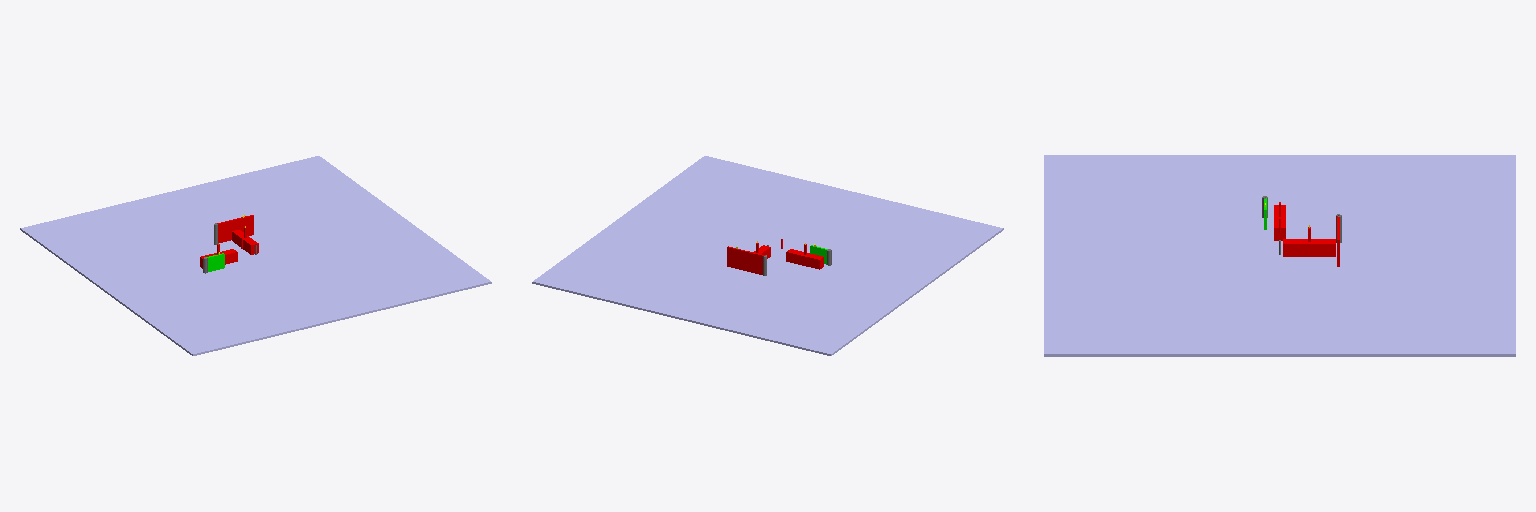
The robot description file, URDF, robot "lockbox2017":
<?xml version="1.0"?>
<!-- created with Phobos 1.0.1 "Capricious Choutengan" -->
  <robot name="lockbox2017">

    <link name="base_link">
      <inertial>
        <origin xyz="0 0 0" rpy="0 0 0"/>
        <mass value="0.001"/>
        <inertia ixx="0.001" ixy="0" ixz="0" iyy="0.001" iyz="0" izz="0.001"/>
      </inertial>
      <visual name="visual_cube_base">
        <origin xyz="0 0 0" rpy="0 0 0"/>
        <geometry>
          <box size="32.0 32.0 0.2"/>
        </geometry>
        <material name="lavender"/>
      </visual>
      <collision name="collision_cube_base">
        <origin xyz="0 0 0" rpy="0 0 0"/>
        <geometry>
          <box size="32.0 32.0 0.2"/>
        </geometry>
      </collision>
    </link>

    <link name="link_1">
      <inertial>
        <origin xyz="0 0 0" rpy="0 0 0"/>
        <mass value="0.001"/>
        <inertia ixx="0.001" ixy="0" ixz="0" iyy="0.001" iyz="0" izz="0.001"/>
      </inertial>
      <visual name="visual_cube_1">
        <origin xyz="0 0 0" rpy="0 0 0"/>
        <geometry>
          <box size="0.8 1.0 3.6"/>
        </geometry>
        <material name="red"/>
      </visual>
      <collision name="collision_cube_1">
        <origin xyz="0 0 0" rpy="0 0 0"/>
        <geometry>
          <box size="0.8 1.0 3.6"/>
        </geometry>
      </collision>
    </link>

    <link name="link_2">
      <inertial>
        <origin xyz="0 0 0" rpy="0 0 0"/>
        <mass value="0.001"/>
        <inertia ixx="0.001" ixy="0" ixz="0" iyy="0.001" iyz="0" izz="0.001"/>
      </inertial>
      <visual name="visual_mesh_2">
        <origin xyz="0 0 0" rpy="0 0 0"/>
        <geometry>
          <mesh filename="file://[local-path]/ba/puzzle-generator/puzzles/lockbox2017/meshes/stl/slot_disc.stl" scale="1.0 1.0 1.0"/>
        </geometry>
        <material name="red"/>
      </visual>
      <collision concave="yes" name="collision_mesh_2">
        <origin xyz="-0.03587 0 0" rpy="0 0 0"/>
        <geometry>
          <mesh filename="file://[local-path]/ba/puzzle-generator/puzzles/lockbox2017/meshes/stl/slot_disc.001.stl" scale="1.0 1.0 1.0"/>
        </geometry>
      </collision>
    </link>

    <link name="link_3">
      <inertial>
        <origin xyz="0 0 0" rpy="0 0 0"/>
        <mass value="0.001"/>
        <inertia ixx="0.001" ixy="0" ixz="0" iyy="0.001" iyz="0" izz="0.001"/>
      </inertial>
      <visual name="visual_cube_3">
        <origin xyz="0 0 0" rpy="0 0 0"/>
        <geometry>
          <box size="0.8 1.0 3.6"/>
        </geometry>
        <material name="red"/>
      </visual>
      <collision name="collision_cube_3">
        <origin xyz="0 0 0" rpy="0 0 0"/>
        <geometry>
          <box size="0.8 1.0 3.6"/>
        </geometry>
      </collision>
    </link>

    <link name="link_door_0">
      <inertial>
        <origin xyz="0 0 0" rpy="0 0 0"/>
        <mass value="0.001"/>
        <inertia ixx="0.001" ixy="0" ixz="0" iyy="0.001" iyz="0" izz="0.001"/>
      </inertial>
      <visual name="visual_cylinder_door_0">
        <origin xyz="0 0 0" rpy="0 0 0"/>
        <geometry>
          <cylinder radius="0.2" length="2.0"/>
        </geometry>
        <material name="gray"/>
      </visual>
      <collision name="collision_cylinder_door_0">
        <origin xyz="0 0 0" rpy="0 0 0"/>
        <geometry>
          <cylinder radius="0.2" length="2.0"/>
        </geometry>
      </collision>
    </link>

    <link name="link_door_4">
      <inertial>
        <origin xyz="0 0 0" rpy="0 0 0"/>
        <mass value="0.001"/>
        <inertia ixx="0.001" ixy="0" ixz="0" iyy="0.001" iyz="0" izz="0.001"/>
      </inertial>
      <visual name="visual_cylinder_door_4">
        <origin xyz="0 0 0" rpy="0 0 0"/>
        <geometry>
          <cylinder radius="0.2" length="2.0"/>
        </geometry>
        <material name="gray"/>
      </visual>
      <collision name="collision_cylinder_door_4">
        <origin xyz="0 0 0" rpy="0 0 0"/>
        <geometry>
          <cylinder radius="0.2" length="2.0"/>
        </geometry>
      </collision>
    </link>

    <link name="link_door_handle_0">
      <inertial>
        <origin xyz="0 0 0" rpy="0 0 0"/>
        <mass value="0.001"/>
        <inertia ixx="0.001" ixy="0" ixz="0" iyy="0.001" iyz="0" izz="0.001"/>
      </inertial>
      <visual name="visual_cube_door_handle_0">
        <origin xyz="0 0 0" rpy="0 0 0"/>
        <geometry>
          <box size="0.2 0.05 0.2"/>
        </geometry>
        <material name="yellow"/>
      </visual>
      <collision name="collision_cube_door_handle_0">
        <origin xyz="0 0 0" rpy="0 0 0"/>
        <geometry>
          <box size="0.2 0.05 0.2"/>
        </geometry>
      </collision>
    </link>

    <link name="link_door_handle_4">
      <inertial>
        <origin xyz="0 0 0" rpy="0 0 0"/>
        <mass value="0.001"/>
        <inertia ixx="0.001" ixy="0" ixz="0" iyy="0.001" iyz="0" izz="0.001"/>
      </inertial>
      <visual name="visual_cube_door_handle_4">
        <origin xyz="0 0 0" rpy="0 0 0"/>
        <geometry>
          <box size="0.2 0.05 0.2"/>
        </geometry>
        <material name="yellow"/>
      </visual>
      <collision name="collision_cube_door_handle_4">
        <origin xyz="0 0 0" rpy="0 0 0"/>
        <geometry>
          <box size="0.2 0.05 0.2"/>
        </geometry>
      </collision>
    </link>

    <link name="link_door_panel_0">
      <inertial>
        <origin xyz="0 0 0" rpy="0 0 0"/>
        <mass value="0.001"/>
        <inertia ixx="0.001" ixy="0" ixz="0" iyy="0.001" iyz="0" izz="0.001"/>
      </inertial>
      <visual name="visual_cube_door_panel_0">
        <origin xyz="0 0 0" rpy="0 0 0"/>
        <geometry>
          <box size="2.0 0.2 2.0"/>
        </geometry>
        <material name="green"/>
      </visual>
      <collision name="collision_cube_door_panel_0">
        <origin xyz="0 0 0" rpy="0 0 0"/>
        <geometry>
          <box size="2.0 0.2 2.0"/>
        </geometry>
      </collision>
    </link>

    <link name="link_door_panel_4">
      <inertial>
        <origin xyz="0 0 0" rpy="0 0 0"/>
        <mass value="0.001"/>
        <inertia ixx="0.001" ixy="0" ixz="0" iyy="0.001" iyz="0" izz="0.001"/>
      </inertial>
      <visual name="visual_cube_door_panel_4">
        <origin xyz="0 0 0" rpy="0 0 0"/>
        <geometry>
          <box size="4.0 0.2 2.0"/>
        </geometry>
        <material name="red"/>
      </visual>
      <collision name="collision_cube_door_panel_4">
        <origin xyz="0 0 0" rpy="0 0 0"/>
        <geometry>
          <box size="4.0 0.2 2.0"/>
        </geometry>
      </collision>
    </link>

    <link name="link_handle_knob_1">
      <inertial>
        <origin xyz="0 0 0" rpy="0 0 0"/>
        <mass value="0.001"/>
        <inertia ixx="0.001" ixy="0" ixz="0" iyy="0.001" iyz="0" izz="0.001"/>
      </inertial>
      <visual name="visual_cube_handle_knob_1">
        <origin xyz="0 0 0" rpy="0 0 0"/>
        <geometry>
          <box size="0.05 0.05 0.2"/>
        </geometry>
        <material name="yellow"/>
      </visual>
      <collision name="collision_cube_handle_knob_1">
        <origin xyz="0 0 0" rpy="0 0 0"/>
        <geometry>
          <box size="0.05 0.05 0.2"/>
        </geometry>
      </collision>
    </link>

    <link name="link_handle_knob_2">
      <inertial>
        <origin xyz="0 0 0" rpy="0 0 0"/>
        <mass value="0.001"/>
        <inertia ixx="0.001" ixy="0" ixz="0" iyy="0.001" iyz="0" izz="0.001"/>
      </inertial>
      <visual name="visual_cube_handle_knob_2">
        <origin xyz="0 0 0" rpy="0 0 0"/>
        <geometry>
          <box size="0.05 0.05 0.2"/>
        </geometry>
        <material name="yellow"/>
      </visual>
      <collision name="collision_cube_handle_knob_2">
        <origin xyz="0 0 0" rpy="0 0 0"/>
        <geometry>
          <box size="0.05 0.05 0.2"/>
        </geometry>
      </collision>
    </link>

    <link name="link_handle_knob_3">
      <inertial>
        <origin xyz="0 0 0" rpy="0 0 0"/>
        <mass value="0.001"/>
        <inertia ixx="0.001" ixy="0" ixz="0" iyy="0.001" iyz="0" izz="0.001"/>
      </inertial>
      <visual name="visual_cube_handle_knob_3">
        <origin xyz="0 0 0" rpy="0 0 0"/>
        <geometry>
          <box size="0.05 0.05 0.2"/>
        </geometry>
        <material name="yellow"/>
      </visual>
      <collision name="collision_cube_handle_knob_3">
        <origin xyz="0 0 0" rpy="0 0 0"/>
        <geometry>
          <box size="0.05 0.05 0.2"/>
        </geometry>
      </collision>
    </link>

    <link name="link_handle_shaft_1">
      <inertial>
        <origin xyz="0 0 0" rpy="0 0 0"/>
        <mass value="0.001"/>
        <inertia ixx="0.001" ixy="0" ixz="0" iyy="0.001" iyz="0" izz="0.001"/>
      </inertial>
      <visual name="visual_cube_handle_shaft_1">
        <origin xyz="0 0 0" rpy="0 0 0"/>
        <geometry>
          <box size="0.2 0.2 1.0"/>
        </geometry>
        <material name="red"/>
      </visual>
      <collision name="collision_cube_handle_shaft_1">
        <origin xyz="0 0 0" rpy="0 0 0"/>
        <geometry>
          <box size="0.2 0.2 1.0"/>
        </geometry>
      </collision>
    </link>

    <link name="link_handle_shaft_2">
      <inertial>
        <origin xyz="0 0 0" rpy="0 0 0"/>
        <mass value="0.001"/>
        <inertia ixx="0.001" ixy="0" ixz="0" iyy="0.001" iyz="0" izz="0.001"/>
      </inertial>
      <visual name="visual_cylinder_handle_shaft_2">
        <origin xyz="0 0 0" rpy="0 0 0"/>
        <geometry>
          <cylinder radius="0.1" length="1.0"/>
        </geometry>
        <material name="red"/>
      </visual>
      <collision name="collision_cylinder_handle_shaft_2">
        <origin xyz="0 0 0" rpy="0 0 0"/>
        <geometry>
          <cylinder radius="0.1" length="1.0"/>
        </geometry>
      </collision>
    </link>

    <link name="link_handle_shaft_3">
      <inertial>
        <origin xyz="0 0 0" rpy="0 0 0"/>
        <mass value="0.001"/>
        <inertia ixx="0.001" ixy="0" ixz="0" iyy="0.001" iyz="0" izz="0.001"/>
      </inertial>
      <visual name="visual_cube_handle_shaft_3">
        <origin xyz="0 0 0" rpy="0 0 0"/>
        <geometry>
          <box size="0.2 0.2 1.0"/>
        </geometry>
        <material name="red"/>
      </visual>
      <collision name="collision_cube_handle_shaft_3">
        <origin xyz="0 0 0" rpy="0 0 0"/>
        <geometry>
          <box size="0.2 0.2 1.0"/>
        </geometry>
      </collision>
    </link>

    <link name="link_hinge_0">
      <inertial>
        <origin xyz="0 0 0" rpy="0 0 0"/>
        <mass value="0.001"/>
        <inertia ixx="0.001" ixy="0" ixz="0" iyy="0.001" iyz="0" izz="0.001"/>
      </inertial>
      <visual name="visual_cylinder_hinge_0">
        <origin xyz="0 0 0" rpy="0 0 0"/>
        <geometry>
          <cylinder radius="0.05" length="2.1"/>
        </geometry>
        <material name="gray"/>
      </visual>
      <collision name="collision_cylinder_hinge_0">
        <origin xyz="0 0 0" rpy="0 0 0"/>
        <geometry>
          <cylinder radius="0.05" length="2.1"/>
        </geometry>
      </collision>
    </link>

    <link name="link_hinge_2">
      <inertial>
        <origin xyz="0 0 0" rpy="0 0 0"/>
        <mass value="0.001"/>
        <inertia ixx="0.001" ixy="0" ixz="0" iyy="0.001" iyz="0" izz="0.001"/>
      </inertial>
      <visual name="visual_cylinder_hinge_2">
        <origin xyz="0 0 0" rpy="0 0 0"/>
        <geometry>
          <cylinder radius="0.05" length="1.1"/>
        </geometry>
        <material name="gray"/>
      </visual>
      <collision name="collision_cylinder_hinge_2">
        <origin xyz="0 0 0" rpy="0 0 0"/>
        <geometry>
          <cylinder radius="0.05" length="1.1"/>
        </geometry>
      </collision>
    </link>

    <link name="link_hinge_4">
      <inertial>
        <origin xyz="0 0 0" rpy="0 0 0"/>
        <mass value="0.001"/>
        <inertia ixx="0.001" ixy="0" ixz="0" iyy="0.001" iyz="0" izz="0.001"/>
      </inertial>
      <visual name="visual_cylinder_hinge_4">
        <origin xyz="0 0 0" rpy="0 0 0"/>
        <geometry>
          <cylinder radius="0.05" length="2.1"/>
        </geometry>
        <material name="gray"/>
      </visual>
      <collision name="collision_cylinder_hinge_4">
        <origin xyz="0 0 0" rpy="0 0 0"/>
        <geometry>
          <cylinder radius="0.05" length="2.1"/>
        </geometry>
      </collision>
    </link>

    <joint name="link_1" type="prismatic">
      <origin xyz="-4.0 0 0.6" rpy="-1.5708 0 -1.5708"/>
      <parent link="base_link"/>
      <child link="link_1"/>
      <axis xyz="0 0 1.0"/>
      <limit lower="0" upper="2.0" effort="0" velocity="0"/>
    </joint>

    <joint name="link_2" type="revolute">
      <origin xyz="0 0 0.6" rpy="0 0 1.5708"/>
      <parent link="base_link"/>
      <child link="link_2"/>
      <axis xyz="0 0 1.0"/>
      <limit lower="0" upper="1.5708" effort="0" velocity="0"/>
    </joint>

    <joint name="link_3" type="prismatic">
      <origin xyz="0 2.0 0.6" rpy="-1.5708 0 0"/>
      <parent link="base_link"/>
      <child link="link_3"/>
      <axis xyz="0 0 1.0"/>
      <limit lower="0" upper="2.0" effort="0" velocity="0"/>
    </joint>

    <joint name="link_door_0" type="revolute">
      <origin xyz="-6.0 -1.0 0.6" rpy="0 0 0"/>
      <parent link="base_link"/>
      <child link="link_door_0"/>
      <axis xyz="0 0 1.0"/>
      <limit lower="0" upper="1.5708" effort="0" velocity="0"/>
    </joint>

    <joint name="link_door_4" type="revolute">
      <origin xyz="-2.0 4.0 1.1" rpy="0 0 0"/>
      <parent link="base_link"/>
      <child link="link_door_4"/>
      <axis xyz="0 0 1.0"/>
      <limit lower="0" upper="1.5708" effort="0" velocity="0"/>
    </joint>

    <joint name="link_door_handle_0" type="fixed">
      <origin xyz="1.5 0 1.1" rpy="0 0 0"/>
      <parent link="link_door_0"/>
      <child link="link_door_handle_0"/>
    </joint>

    <joint name="link_door_handle_4" type="fixed">
      <origin xyz="3.0 0 1.1" rpy="0 0 0"/>
      <parent link="link_door_4"/>
      <child link="link_door_handle_4"/>
    </joint>

    <joint name="link_door_panel_0" type="fixed">
      <origin xyz="1.0 0 0" rpy="0 0 0"/>
      <parent link="link_door_0"/>
      <child link="link_door_panel_0"/>
    </joint>

    <joint name="link_door_panel_4" type="fixed">
      <origin xyz="2.0 0 0" rpy="0 0 0"/>
      <parent link="link_door_4"/>
      <child link="link_door_panel_4"/>
    </joint>

    <joint name="link_handle_knob_1" type="fixed">
      <origin xyz="0 0 0.6" rpy="0 0 0"/>
      <parent link="link_handle_shaft_1"/>
      <child link="link_handle_knob_1"/>
    </joint>

    <joint name="link_handle_knob_2" type="fixed">
      <origin xyz="0 0 0.6" rpy="0 0 0"/>
      <parent link="link_handle_shaft_2"/>
      <child link="link_handle_knob_2"/>
    </joint>

    <joint name="link_handle_knob_3" type="fixed">
      <origin xyz="0 0 0.6" rpy="0 0 0"/>
      <parent link="link_handle_shaft_3"/>
      <child link="link_handle_knob_3"/>
    </joint>

    <joint name="link_handle_shaft_1" type="fixed">
      <origin xyz="0 -1.0 0" rpy="1.5708 0 0"/>
      <parent link="link_1"/>
      <child link="link_handle_shaft_1"/>
    </joint>

    <joint name="link_handle_shaft_2" type="fixed">
      <origin xyz="0 1.5 1.0" rpy="0 0 0"/>
      <parent link="link_2"/>
      <child link="link_handle_shaft_2"/>
    </joint>

    <joint name="link_handle_shaft_3" type="fixed">
      <origin xyz="0 -1.0 0" rpy="1.5708 0 0"/>
      <parent link="link_3"/>
      <child link="link_handle_shaft_3"/>
    </joint>

    <joint name="link_hinge_0" type="fixed">
      <origin xyz="0 0 0" rpy="0 0 0"/>
      <parent link="link_door_0"/>
      <child link="link_hinge_0"/>
    </joint>

    <joint name="link_hinge_2" type="fixed">
      <origin xyz="0 0 0" rpy="0 0 0"/>
      <parent link="link_2"/>
      <child link="link_hinge_2"/>
    </joint>

    <joint name="link_hinge_4" type="fixed">
      <origin xyz="0 0 0" rpy="0 0 0"/>
      <parent link="link_door_4"/>
      <child link="link_hinge_4"/>
    </joint>

    <material name="gray">
      <color rgba="0.5 0.5 0.5 1.0"/>
    </material>

    <material name="green">
      <color rgba="0 1.0 0 1.0"/>
    </material>

    <material name="lavender">
      <color rgba="0.8 0.8 1.0 1.0"/>
    </material>

    <material name="red">
      <color rgba="1.0 0 0 1.0"/>
    </material>

    <material name="yellow">
      <color rgba="1.0 1.0 0 1.0"/>
    </material>

  </robot>

--- Facts derived from the render (not from the file) ---
Views: 3 orthographic renders of the robot side by side, from view 1: azimuth 30°, elevation 25°; view 2: azimuth 150°, elevation 25°; view 3: azimuth 270°, elevation 25°.
Model lockbox2017 with 19 links and 18 joints (3 revolute, 2 prismatic, 13 fixed), rooted at base_link, posed every joint at zero.
Visible links, largest first — view 1: base_link, link_door_panel_4; view 2: base_link, link_door_panel_4; view 3: base_link, link_3.
Boxes of the visible links, x1,y1,x2,y2 form: base_link: (20,156,491,355); link_door_panel_4: (217,215,253,242); base_link: (532,156,1003,355); link_door_panel_4: (727,246,764,274); base_link: (1044,155,1515,356); link_3: (1283,239,1335,256).
Bounding box of the posed robot: 32 × 32 × 2.75 m (x, y, z).
Geometry: only primitive shapes (box / cylinder / sphere) drawn; not drawn: 1 mesh visual (reference in a form the renderer does not follow).
